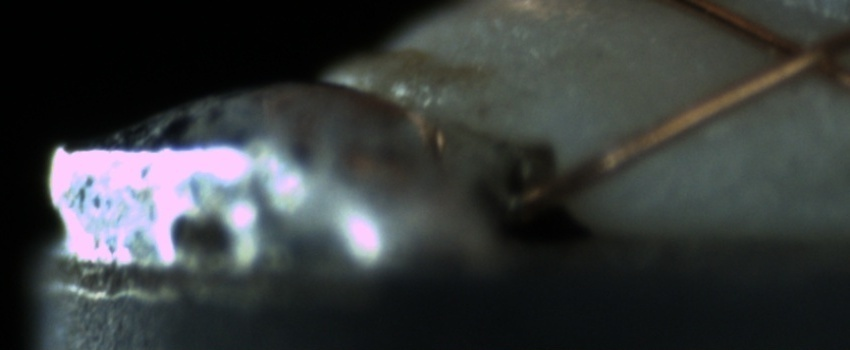CL: (748, 12, 845, 89)
